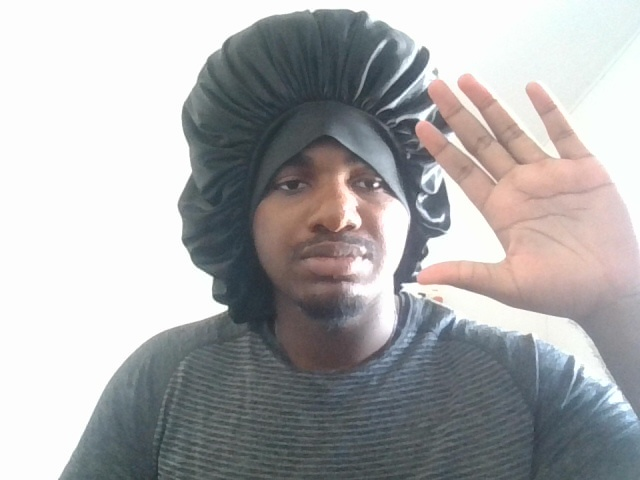Hello: (397, 65, 640, 335)
